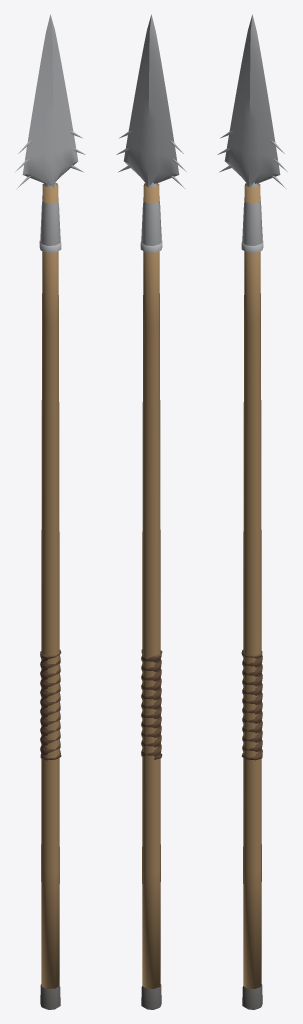
The model's file is barbed-spear.glb.
3 views of the same model, side by side, from view 1: azimuth 30°, elevation 25°; view 2: azimuth 150°, elevation 25°; view 3: azimuth 330°, elevation 25° (orthographic).
Parts seen in each view (by area): view 1: barbed-spear; view 2: barbed-spear; view 3: barbed-spear.
Part boxes in pixels (<box>): barbed-spear: <box>15,14,85,1009</box>; barbed-spear: <box>116,14,186,1009</box>; barbed-spear: <box>217,14,287,1009</box>.
Bounding box in the file's own units: 0.3644 × 4.79 × 0.0991.
